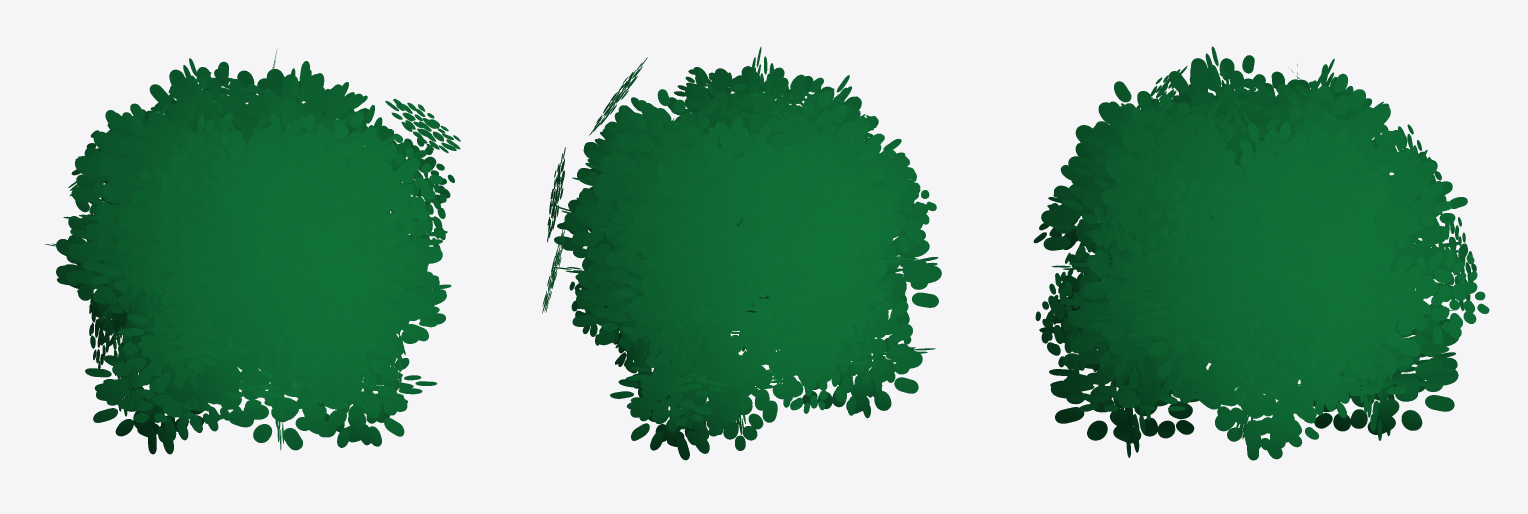
Rendered from bush.glb.
The picture shows the model from 3 angles, left to right: view 1: azimuth 30°, elevation 25°; view 2: azimuth 150°, elevation 25°; view 3: azimuth 270°, elevation 25°; orthographic projection. The views are drawn at different scales.
Visible parts, largest first — view 1: Bush_Common; view 2: Bush_Common; view 3: Bush_Common.
Part boxes in pixels (left/top/right/bottom): Bush_Common: left=45, top=49, right=460, bottom=454; Bush_Common: left=542, top=47, right=941, bottom=460; Bush_Common: left=1033, top=46, right=1489, bottom=460.
Size of the model in its own units: 1.69 by 1.57 by 1.7.
Materials: 1 (1 with a texture image).
